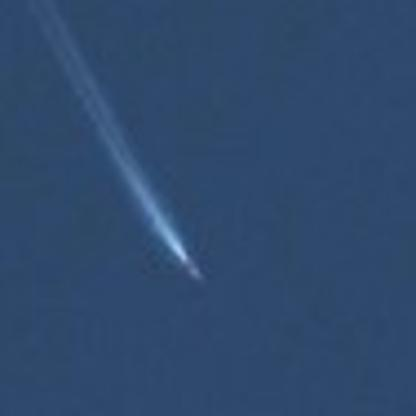ship: (168, 244, 215, 288)
